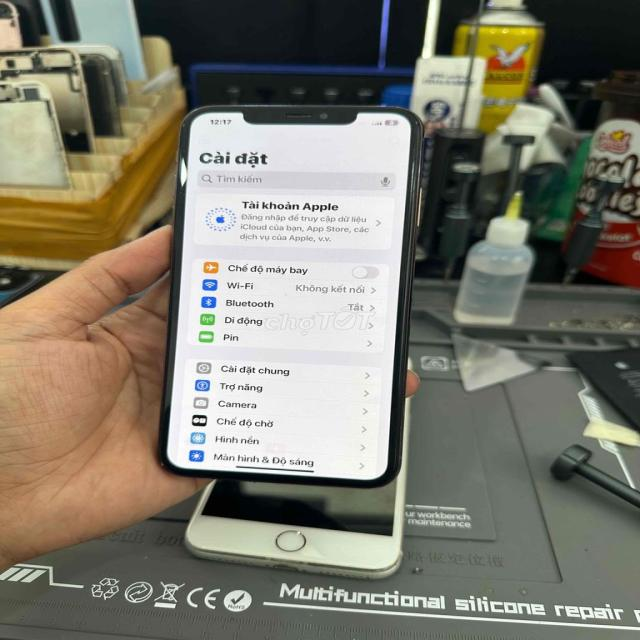gen_x_xs: (159, 105, 422, 488)
scratch: (151, 456, 173, 476), (407, 116, 418, 126), (182, 124, 188, 130)
